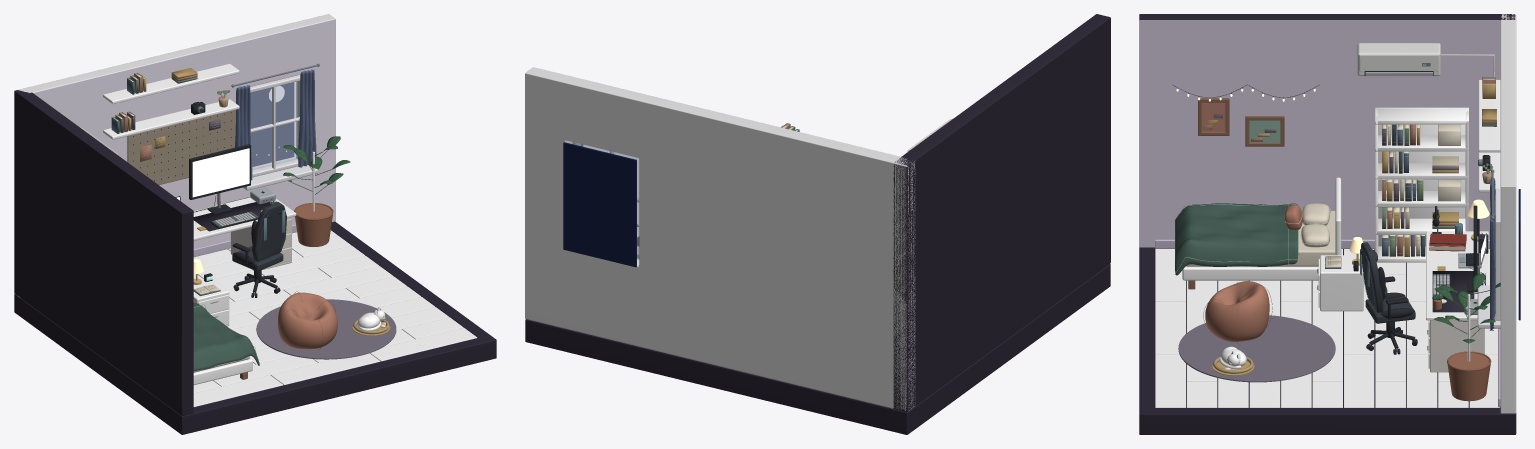
Rendered from room.glb.
3 views of the same model, side by side, from view 1: azimuth 30°, elevation 25°; view 2: azimuth 150°, elevation 25°; view 3: azimuth 270°, elevation 25° (orthographic). The views are drawn at different scales.
Visible parts, largest first — view 1: V2_Room_LeftWall, V2_Room_RearWall, V2_Room_Plinth, V2_Block_Pegboard, V2_Block_Rug, V2_Room_Glass, V2_Soft_Beanbag, V2_Detail_GamingChair, V2_Soft_DrapedQuilt, V2_Room_NightPanel, Computer_Screen, V2_Soft_PleatedCurtain1 (+28 smaller); view 2: V2_Room_RearWall, V2_Room_LeftWall, V2_Room_Plinth, V2_Room_NightPanel; view 3: V2_Room_LeftWall, V2_Room_Plinth, Bookshelf, V2_Soft_DrapedQuilt, V2_Room_RearWall, V2_Block_Rug, V2_Soft_Beanbag, V2_Detail_GamingChair, AirConditioner, V2_Block_Nightstand, V2_Block_BedFrame, V2_Block_DeskCabinet (+45 smaller).
Part boxes in pixels (bbox=[...]): V2_Room_LeftWall: bbox=[14, 90, 193, 415]; V2_Room_RearWall: bbox=[15, 14, 335, 297]; V2_Room_Plinth: bbox=[14, 221, 496, 434]; V2_Block_Pegboard: bbox=[127, 110, 235, 184]; V2_Block_Rug: bbox=[256, 299, 396, 359]; V2_Room_Glass: bbox=[250, 81, 297, 169]; V2_Soft_Beanbag: bbox=[278, 292, 337, 349]; V2_Detail_GamingChair: bbox=[232, 202, 286, 297]; V2_Soft_DrapedQuilt: bbox=[193, 303, 259, 371]; V2_Room_NightPanel: bbox=[251, 82, 293, 166]; Computer_Screen: bbox=[192, 148, 249, 197]; V2_Soft_PleatedCurtain1: bbox=[298, 69, 316, 167]; V2_Room_RearWall: bbox=[525, 67, 915, 411]; V2_Room_LeftWall: bbox=[893, 14, 1110, 411]; V2_Room_Plinth: bbox=[525, 237, 1110, 434]; V2_Room_NightPanel: bbox=[563, 142, 636, 267]; V2_Room_LeftWall: bbox=[1139, 14, 1515, 247]; V2_Room_Plinth: bbox=[1139, 247, 1516, 434]; Bookshelf: bbox=[1375, 107, 1468, 262]; V2_Soft_DrapedQuilt: bbox=[1175, 203, 1298, 275]; V2_Room_RearWall: bbox=[1500, 14, 1516, 413]; V2_Block_Rug: bbox=[1178, 315, 1335, 382]; V2_Soft_Beanbag: bbox=[1205, 281, 1269, 341]; V2_Detail_GamingChair: bbox=[1360, 242, 1417, 354]; AirConditioner: bbox=[1357, 43, 1440, 76]; V2_Block_Nightstand: bbox=[1320, 255, 1363, 311]; V2_Block_BedFrame: bbox=[1182, 266, 1318, 280]; V2_Block_DeskCabinet: bbox=[1430, 320, 1484, 372].
Bounding box in the file's own units: 5.2 × 3.5 × 4.86.
